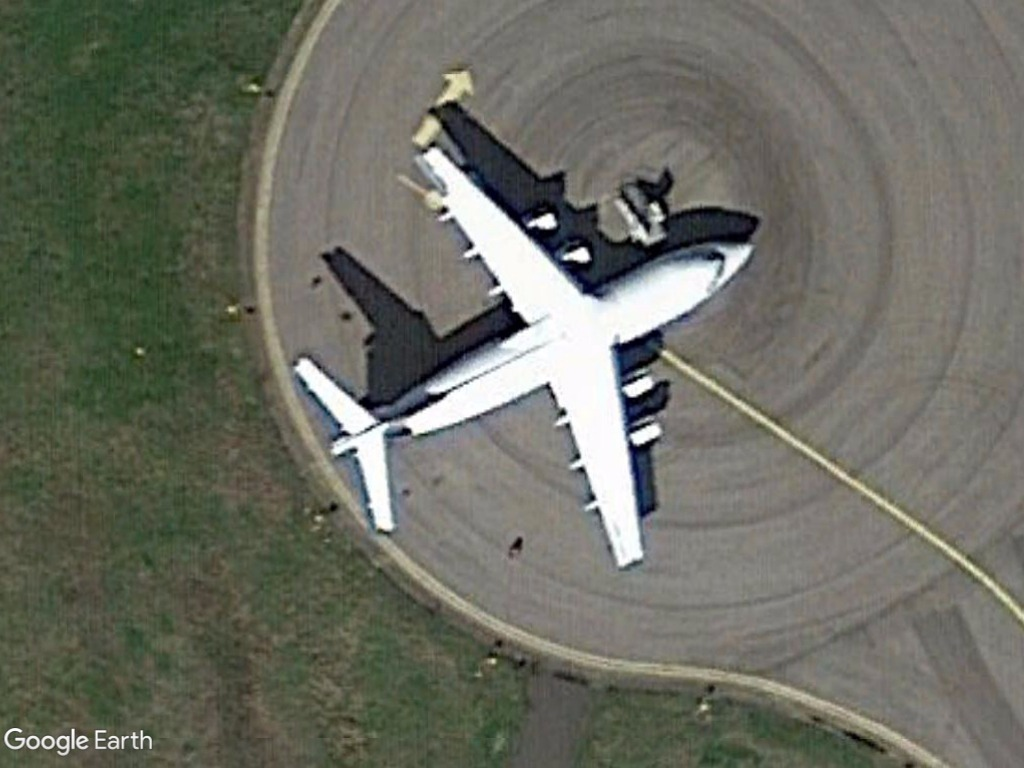airliner: (296, 142, 758, 577)
